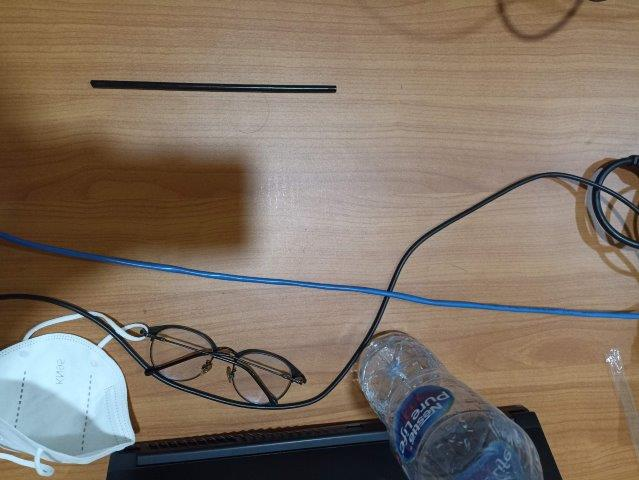sedotan: (91, 80, 337, 93)
